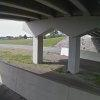Bridge: (5, 6, 94, 82)
